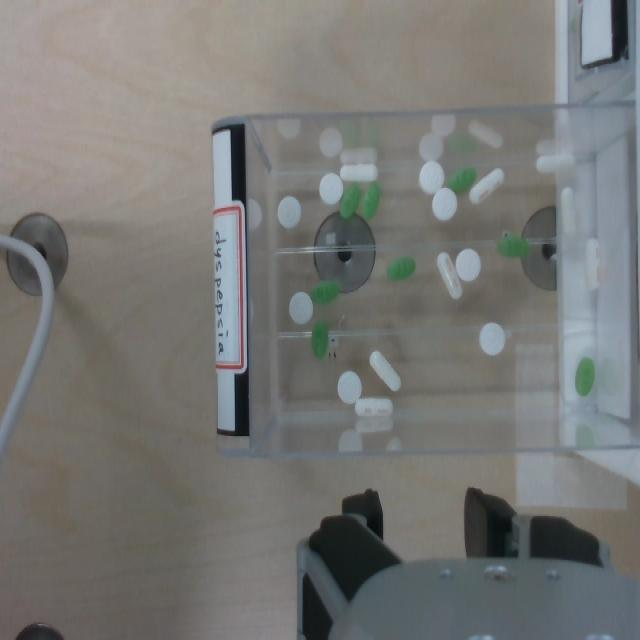magmil_tab: (479, 323, 506, 355), (419, 160, 444, 193), (455, 248, 480, 281), (432, 188, 457, 220), (277, 196, 301, 229), (337, 371, 361, 404), (289, 292, 313, 324), (319, 173, 343, 204)
medilacsenteric_tab: (369, 351, 400, 391), (469, 168, 504, 203), (437, 252, 461, 299), (585, 239, 601, 289), (535, 152, 573, 173), (340, 163, 377, 183), (354, 397, 392, 416), (560, 187, 574, 233)
nexilen_tab: (498, 233, 529, 257), (575, 357, 594, 396), (448, 167, 476, 193), (361, 181, 380, 219), (310, 280, 339, 304), (340, 183, 360, 217), (387, 256, 415, 280), (311, 320, 328, 357)
